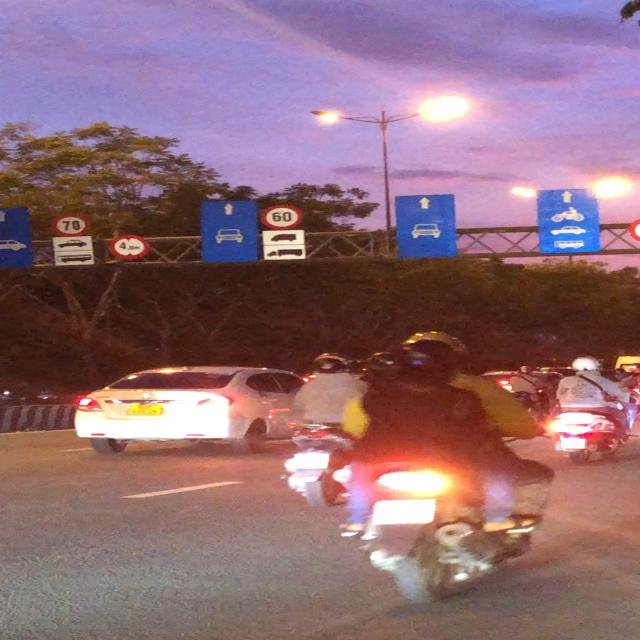Bien bao han che chieu cao: (108, 233, 153, 259)
Bien bao toc do toi da cho phep: (258, 202, 309, 231), (47, 211, 95, 239)
